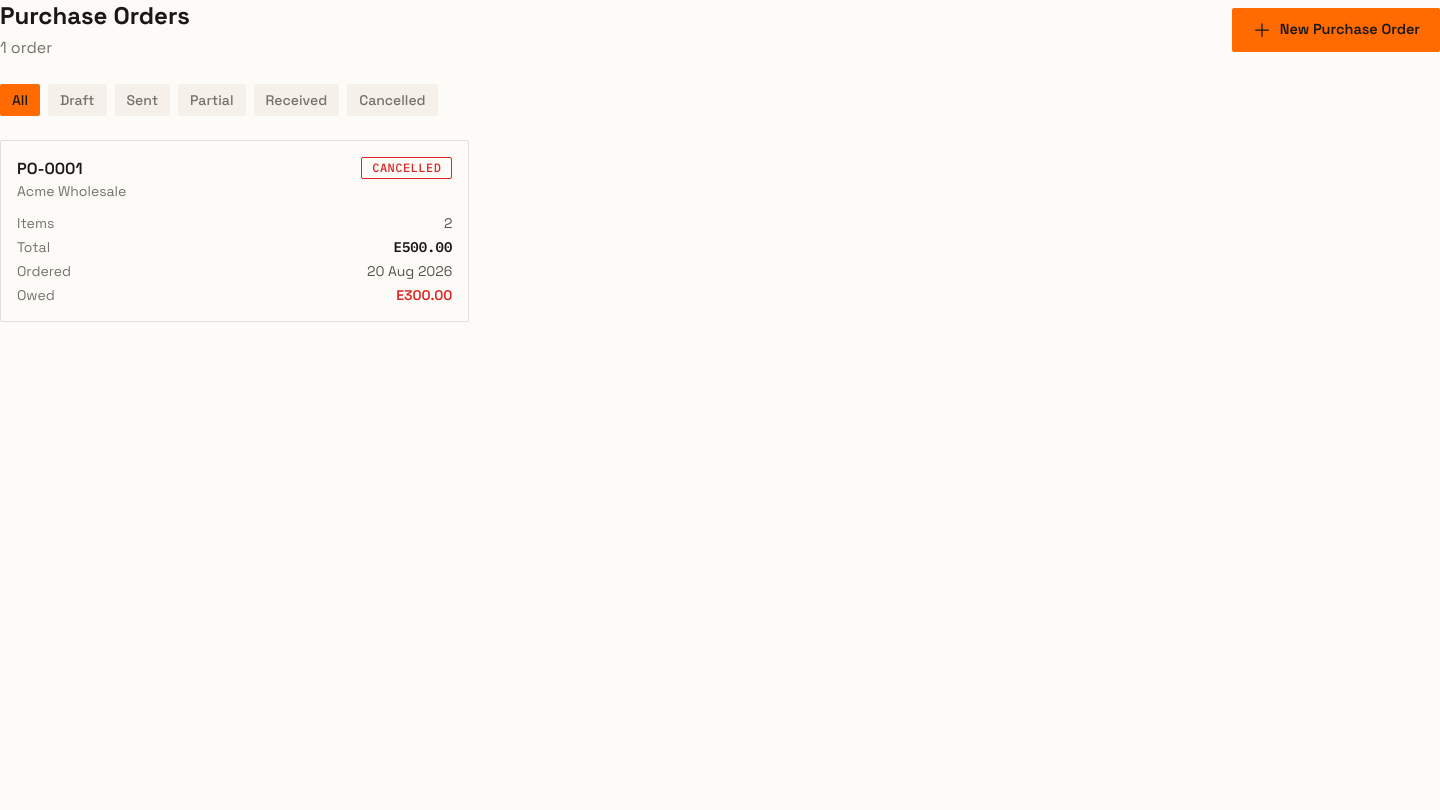
Test case: PurchaseOrders — accounts payable › still allows recording a payment on a cancelled PO with an outstanding payable
The width and height of the screenshot is (1440, 810).
Click the heading "PO-0001". click: (50, 168)
box: [17, 158, 83, 179]
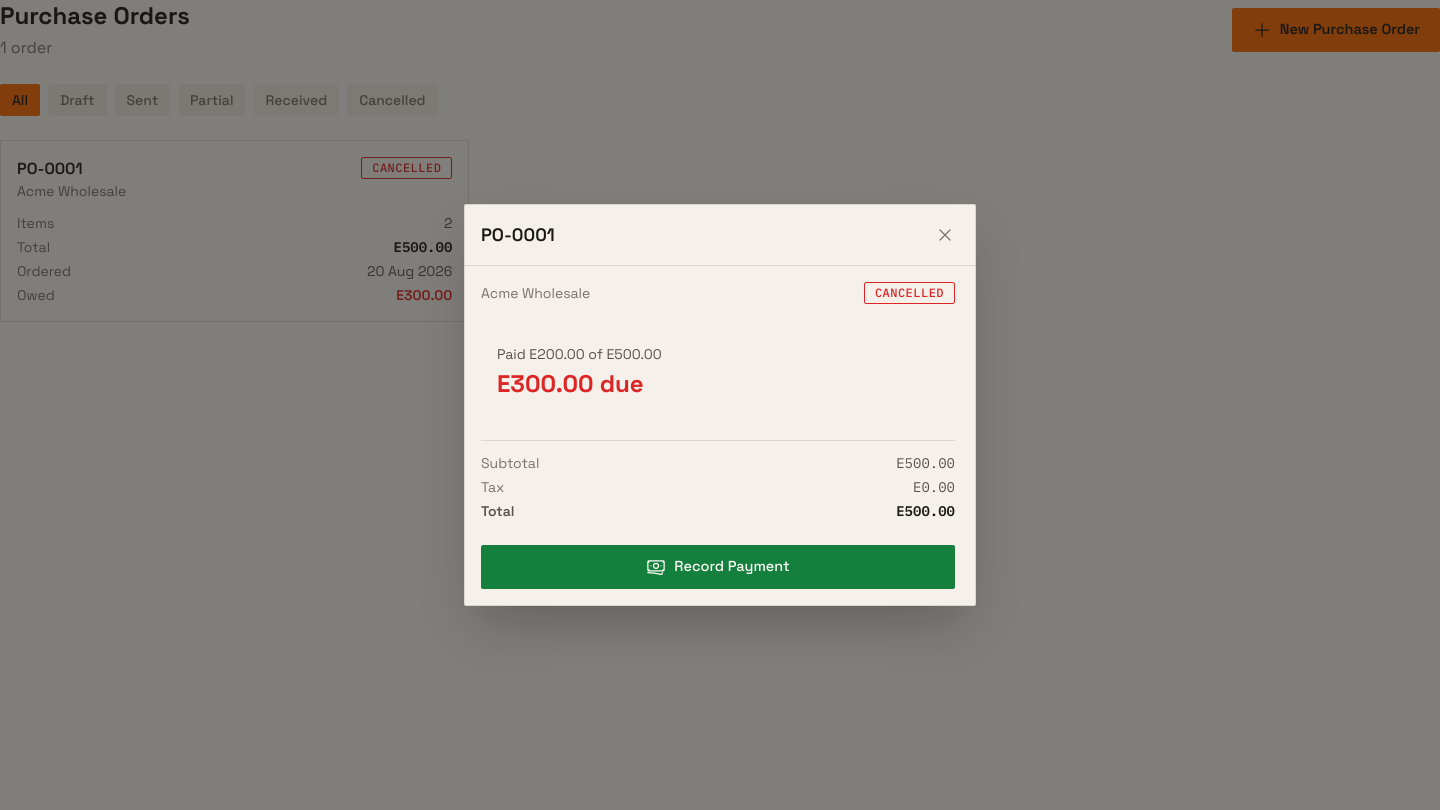
Result: the text "Paid E200.00 of E500.00" is shown once at [497, 345, 662, 363]
Result: the text "E300.00 due" is shown at [497, 368, 644, 399]
Result: the button "Record Payment" is shown at [481, 545, 955, 589]
